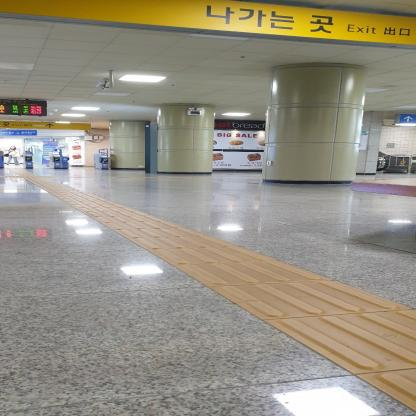go: (263, 309, 416, 375), (207, 280, 413, 319), (172, 260, 335, 287), (146, 246, 280, 265), (128, 236, 241, 250), (113, 228, 212, 239), (100, 221, 188, 230)
